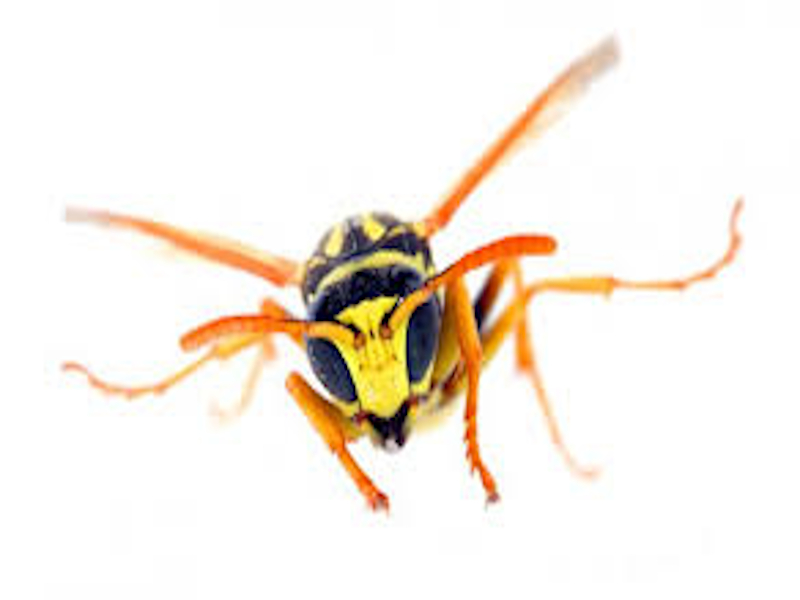chax: (87, 28, 751, 493)
